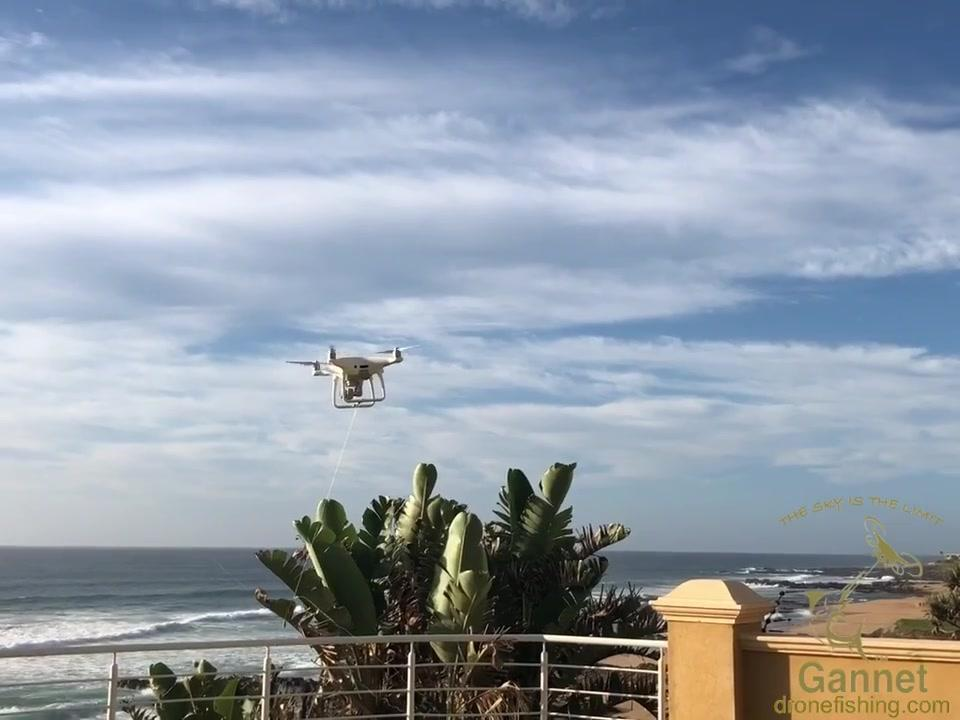UAV: (286, 347, 421, 410)
